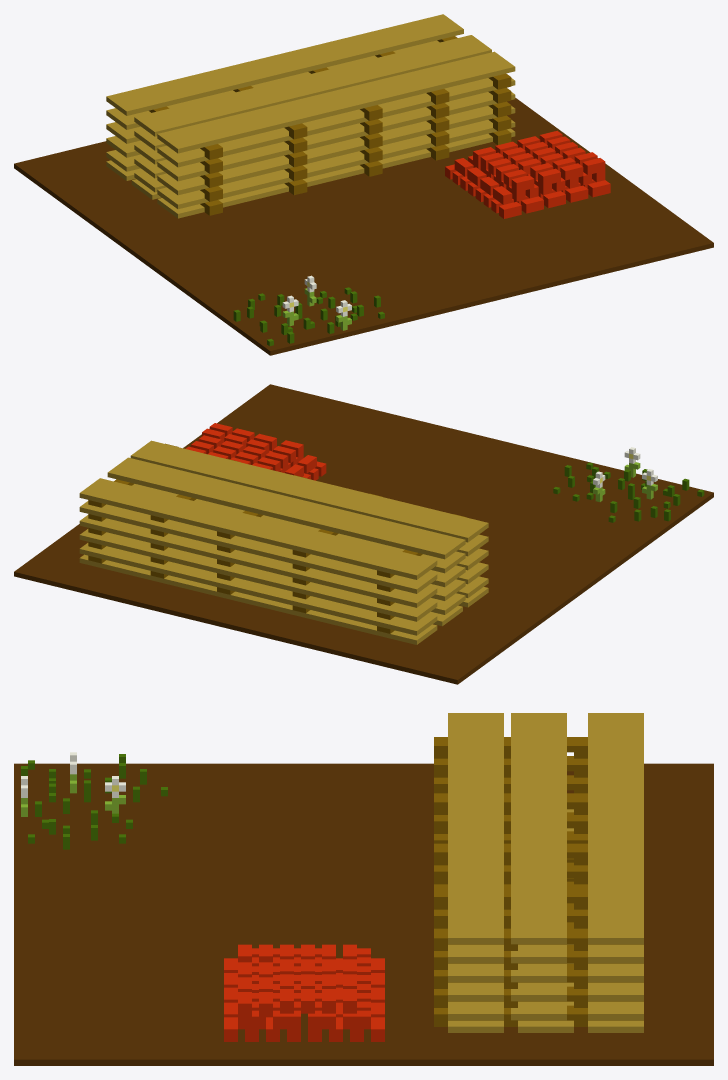
The model's file is church1.obj.
3 renders of one model, top to bottom at view 1: azimuth 30°, elevation 25°; view 2: azimuth 150°, elevation 25°; view 3: azimuth 270°, elevation 25°, orthographic. The views are drawn at different scales.
Size of the model in its own units: 100 by 16 by 100.
Materials: 1 (1 with a texture image).
